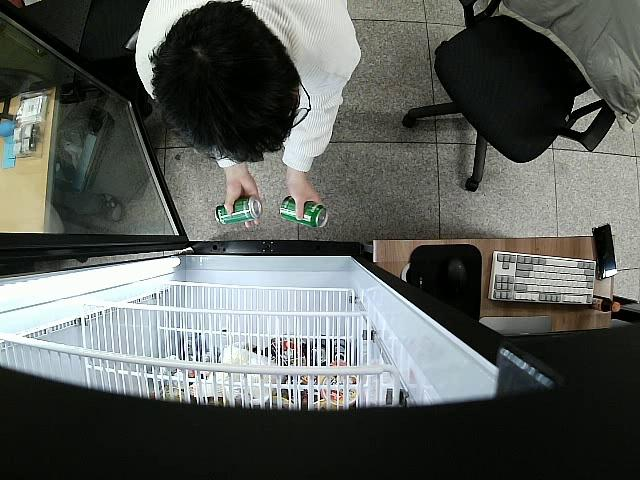00_hand: (285, 168, 324, 221), (225, 171, 261, 228)
12_chilsungCider: (279, 198, 329, 230), (215, 195, 263, 224)
